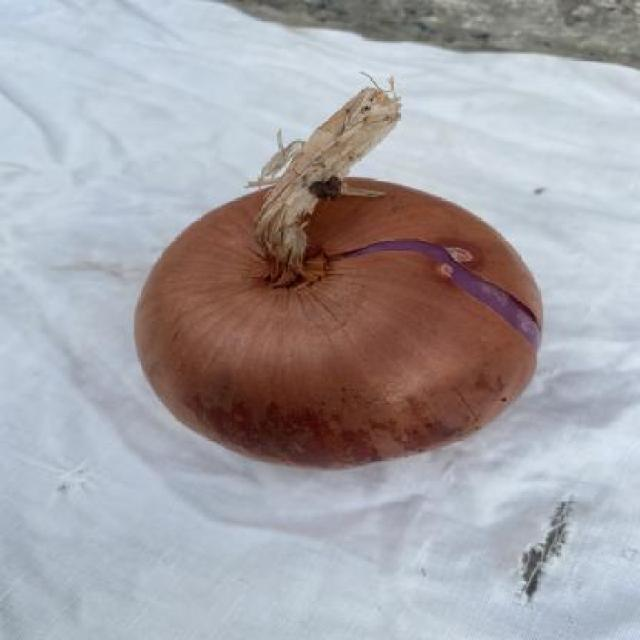Onion: (135, 83, 543, 468)
